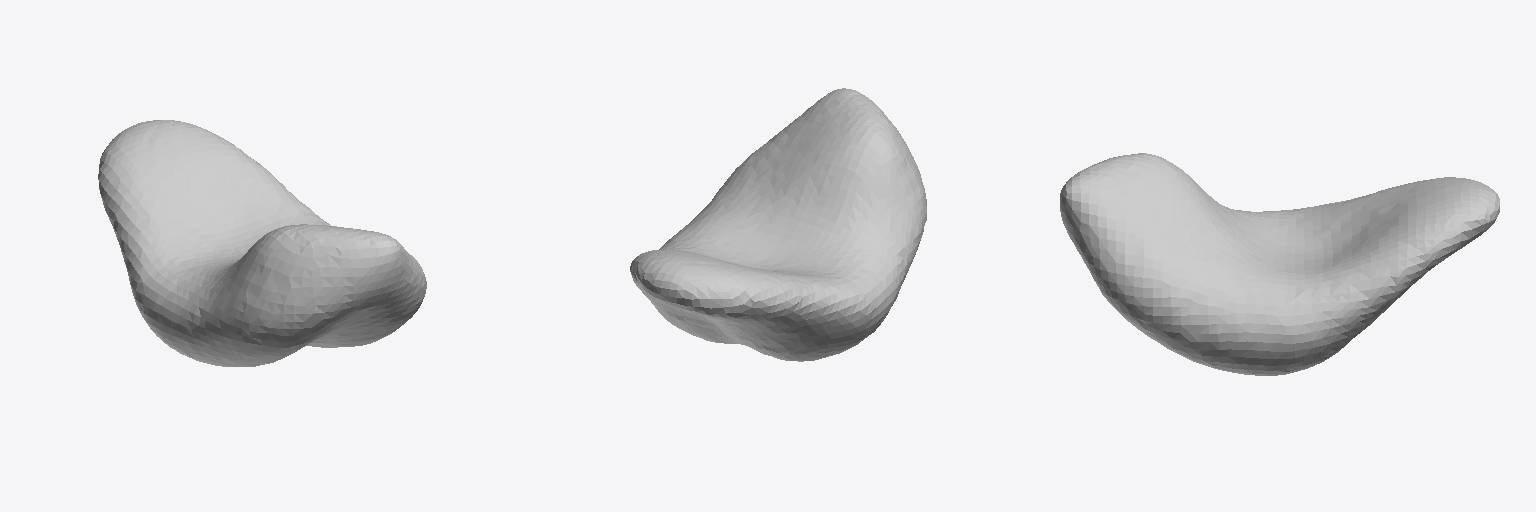
The model's file is tongue.obj.
The picture shows the model from 3 angles: view 1: azimuth 30°, elevation 25°; view 2: azimuth 150°, elevation 25°; view 3: azimuth 270°, elevation 25°; orthographic projection.
Parts seen in each view (by area): view 1: ZBrush_defualt_group; view 2: ZBrush_defualt_group; view 3: ZBrush_defualt_group.
Part boxes in pixels (bbox=[...]): ZBrush_defualt_group: bbox=[98, 120, 426, 366]; ZBrush_defualt_group: bbox=[630, 88, 926, 361]; ZBrush_defualt_group: bbox=[1060, 153, 1499, 375].
Size of the model in its own units: 1.8 by 1.38 by 3.1.